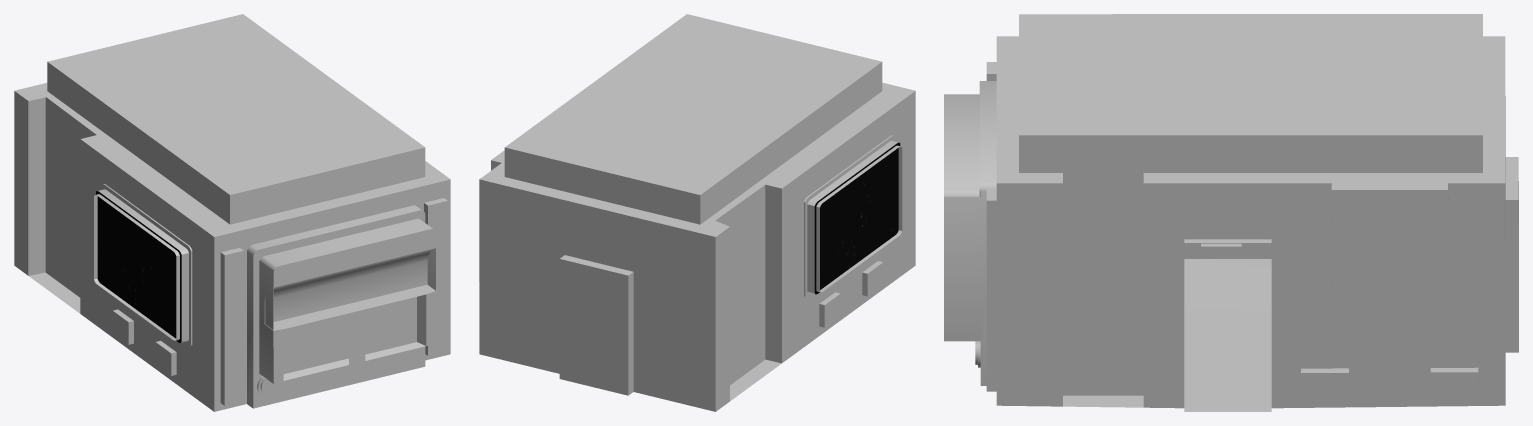
The model's file is Room_02.fbx.
3 views of the same model, side by side, from view 1: azimuth 30°, elevation 25°; view 2: azimuth 150°, elevation 25°; view 3: azimuth 270°, elevation 25° (orthographic). The views are drawn at different scales.
Visible parts, largest first — view 1: Room; view 2: Room; view 3: Room.
Part boxes in pixels (box(x1,y1,x2,y2)): Room: box(14, 14, 450, 411); Room: box(479, 14, 915, 411); Room: box(944, 14, 1518, 411).
Bounding box in the file's own units: 402 × 305 × 606.
